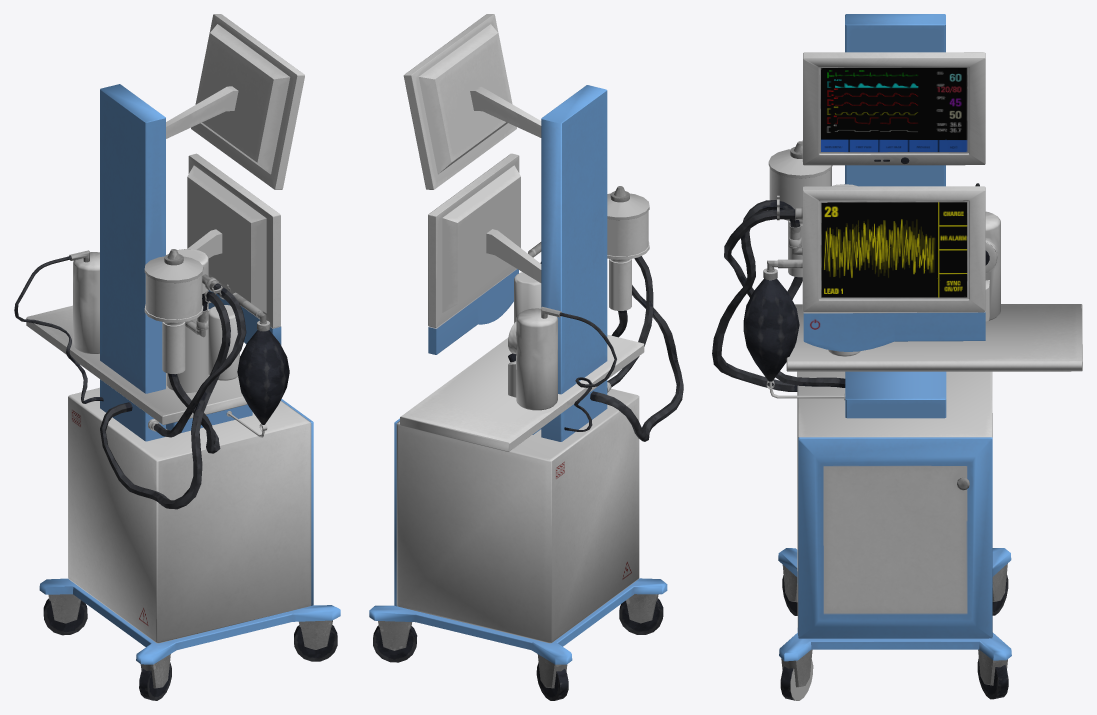
Rendered from Machine.fbx.
The picture shows the model from 3 angles, left to right: view 1: azimuth 30°, elevation 25°; view 2: azimuth 150°, elevation 25°; view 3: azimuth 270°, elevation 25°; orthographic projection. The views are drawn at different scales.
Parts seen in each view (by area): view 1: Machine; view 2: Machine; view 3: Machine.
Boxes of the visible parts, x1,y1,x2,y2 form: Machine: [14, 14, 340, 700]; Machine: [369, 14, 683, 700]; Machine: [712, 14, 1082, 700].
Bounding box in the file's own units: 70.9 × 168 × 88.42.
